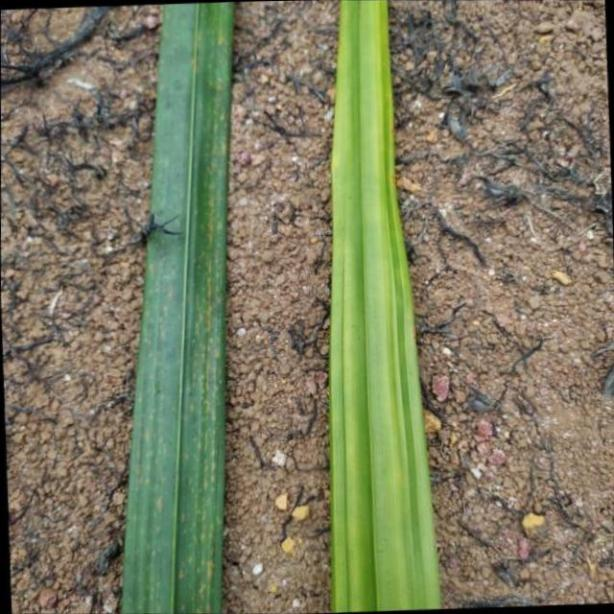nitrogen: (318, 0, 446, 614)
